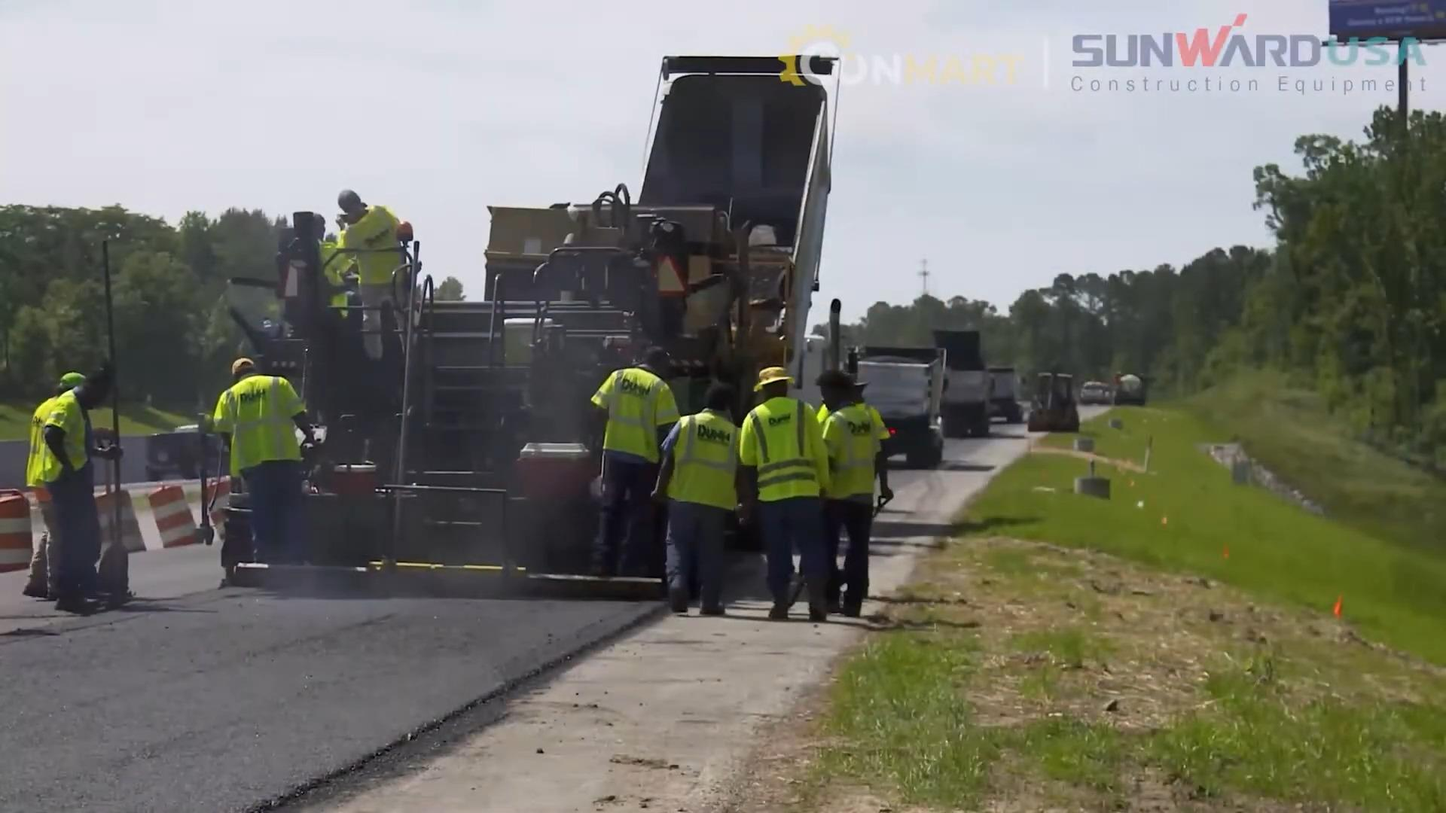Helmet: (638, 348, 667, 370), (337, 189, 361, 213), (704, 381, 736, 399), (60, 372, 84, 388)
Person: (215, 348, 321, 577), (737, 360, 811, 624), (814, 369, 892, 617), (603, 341, 671, 609), (43, 374, 119, 611), (676, 363, 739, 628), (339, 192, 423, 368), (22, 370, 76, 606)
Safety Boot: (671, 582, 690, 626), (769, 597, 790, 624), (697, 599, 724, 618), (809, 606, 822, 623)
Safety Vest: (664, 409, 740, 511), (228, 382, 294, 461), (751, 420, 817, 495), (607, 374, 662, 460), (832, 418, 884, 493), (47, 403, 90, 473), (356, 223, 400, 278), (28, 408, 46, 483)
bare-arms: (106, 442, 131, 462)
no-helmet: (755, 367, 795, 396), (818, 366, 856, 387), (233, 355, 261, 373), (89, 366, 114, 386)
